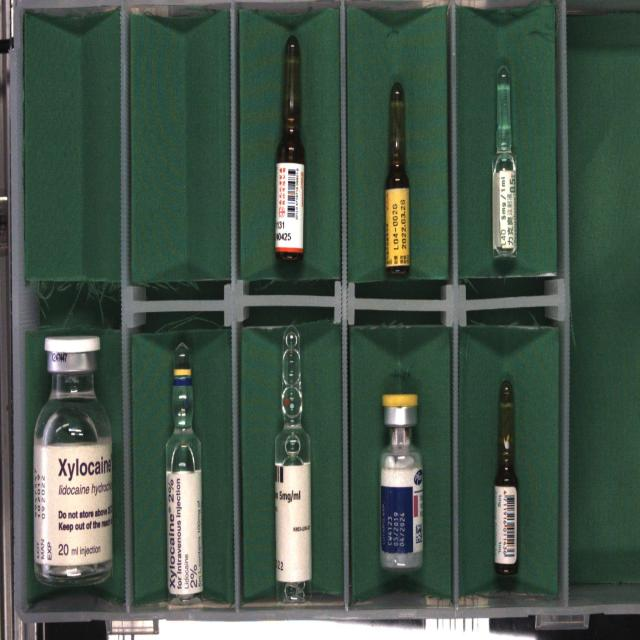Vials: (33, 335, 112, 583), (380, 394, 423, 570)
